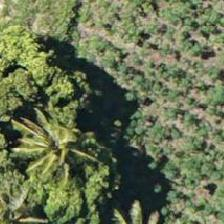coconut_tree: (10, 107, 100, 197), (0, 170, 52, 223)
